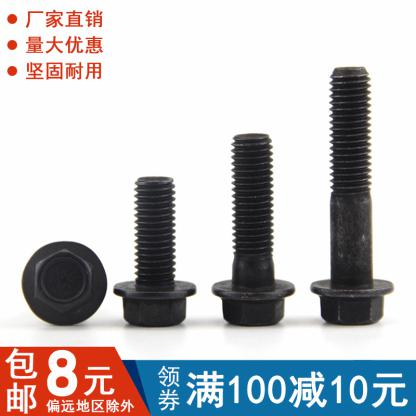FOD: (307, 63, 396, 326), (207, 132, 297, 327), (112, 173, 197, 326), (21, 235, 108, 328)
